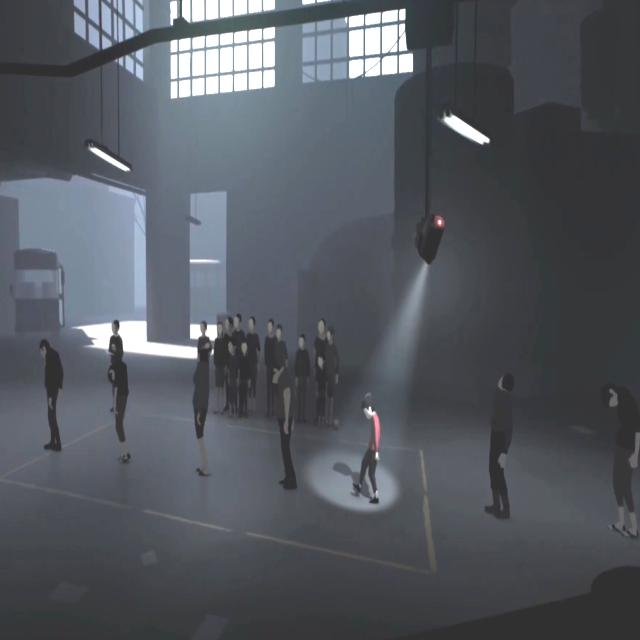boy: (355, 392, 381, 503)
human: (245, 317, 262, 419), (295, 334, 311, 426), (212, 318, 226, 418), (327, 327, 340, 427), (226, 338, 239, 417), (264, 319, 274, 417), (108, 320, 124, 360), (316, 356, 325, 426), (275, 322, 289, 366), (313, 318, 326, 353), (198, 321, 210, 344)
zombie: (601, 381, 640, 540), (484, 372, 516, 518), (273, 366, 296, 490), (39, 338, 64, 451), (107, 361, 132, 462), (193, 345, 212, 476)
